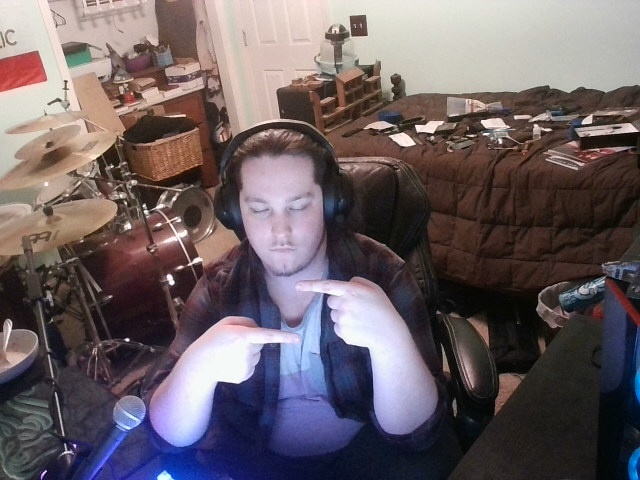go: (193, 277, 404, 402)
